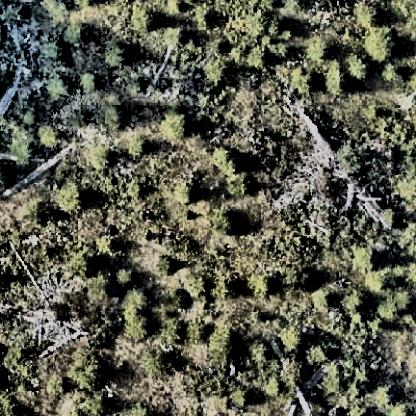tree-top: (67, 348, 111, 389), (117, 287, 155, 332), (373, 289, 413, 326), (200, 321, 238, 359), (362, 22, 398, 62), (52, 178, 88, 217), (160, 109, 197, 146), (66, 247, 102, 283), (140, 348, 175, 380), (212, 203, 243, 237), (169, 177, 200, 211), (238, 336, 269, 368), (243, 268, 276, 298), (87, 143, 117, 174), (212, 145, 242, 175), (291, 67, 321, 97), (301, 338, 331, 367), (278, 325, 306, 355), (347, 53, 375, 83), (241, 13, 269, 43), (1, 2, 27, 34), (201, 57, 227, 89), (33, 43, 70, 65), (321, 65, 350, 93), (350, 242, 377, 272), (335, 146, 363, 174), (39, 124, 65, 152), (64, 20, 90, 46), (227, 384, 253, 409), (306, 39, 333, 63), (351, 1, 381, 22), (47, 76, 71, 102), (376, 385, 400, 409), (105, 45, 131, 67), (161, 27, 189, 47), (380, 203, 402, 227), (230, 174, 254, 196), (343, 293, 367, 315), (250, 45, 270, 70), (136, 8, 158, 30)
